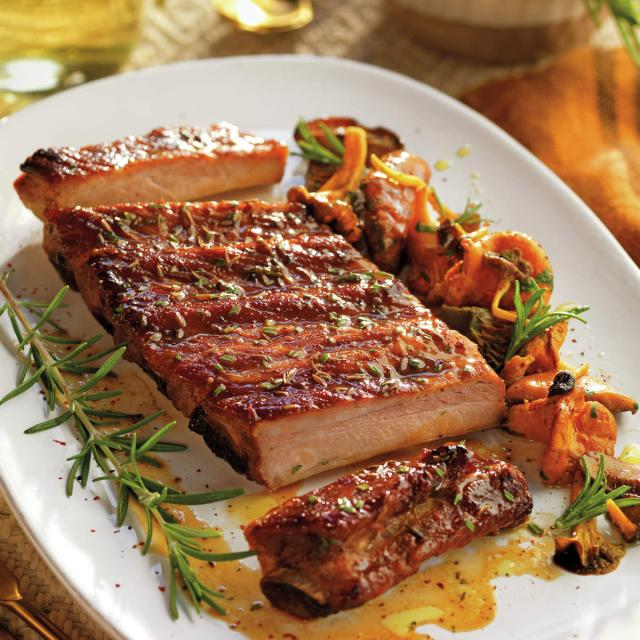carne de cerdo: (15, 121, 545, 621)
